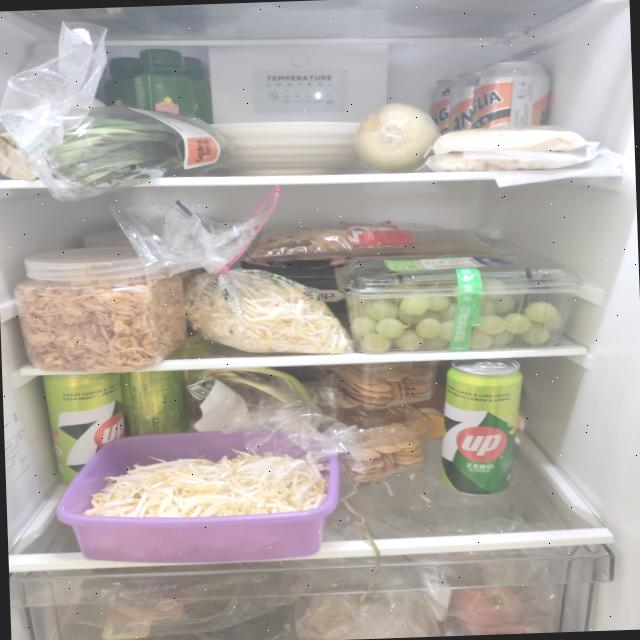bean_sprouts: (81, 444, 330, 520), (182, 264, 352, 360)
grape: (345, 275, 564, 354)
tempeh: (425, 122, 587, 173)
